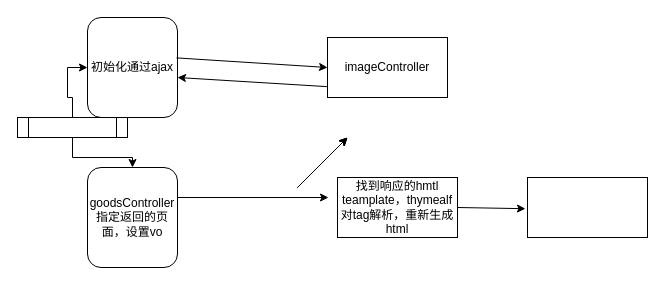
This 665x285 diagram has some shape labels left out. Each missing label, with the centre of its shape:
"http:xx.deatail" belongs at pixel 72 127.
"真正的html" belongs at pixel 587 207.
